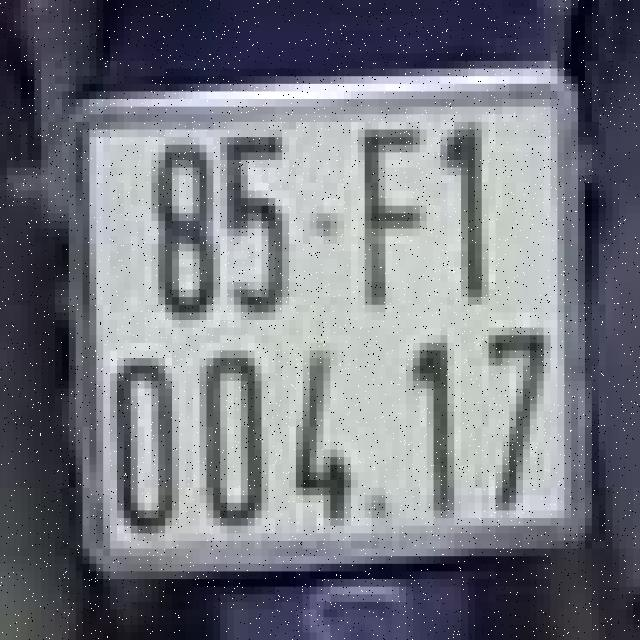0: (193, 320, 289, 541), (103, 346, 186, 544)
1: (392, 316, 475, 530), (437, 99, 513, 320)
4: (286, 331, 375, 522)
5: (220, 122, 310, 328)
7: (471, 312, 561, 534)
8: (138, 130, 227, 335)
F: (344, 107, 434, 312)
